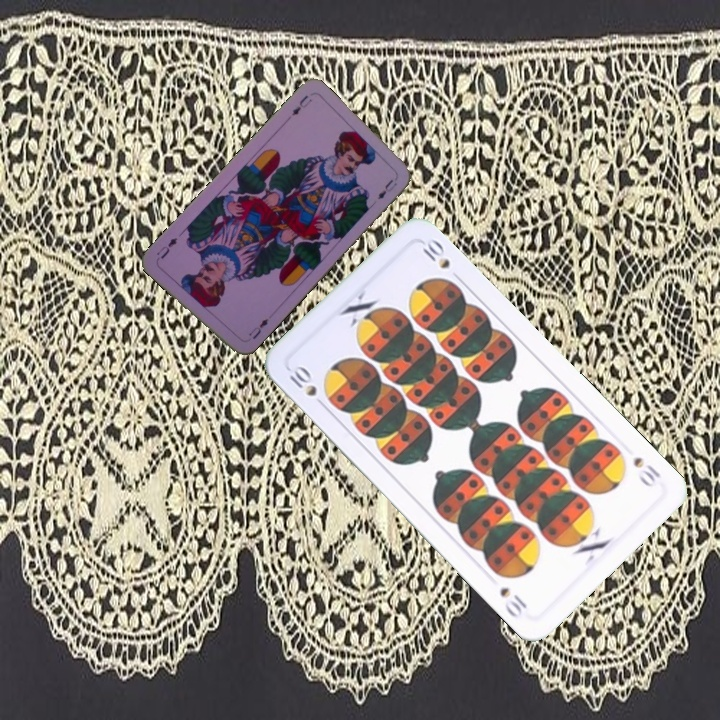EU: (244, 314, 271, 342), (288, 91, 315, 118)
S10: (284, 361, 329, 412), (629, 452, 664, 490)
